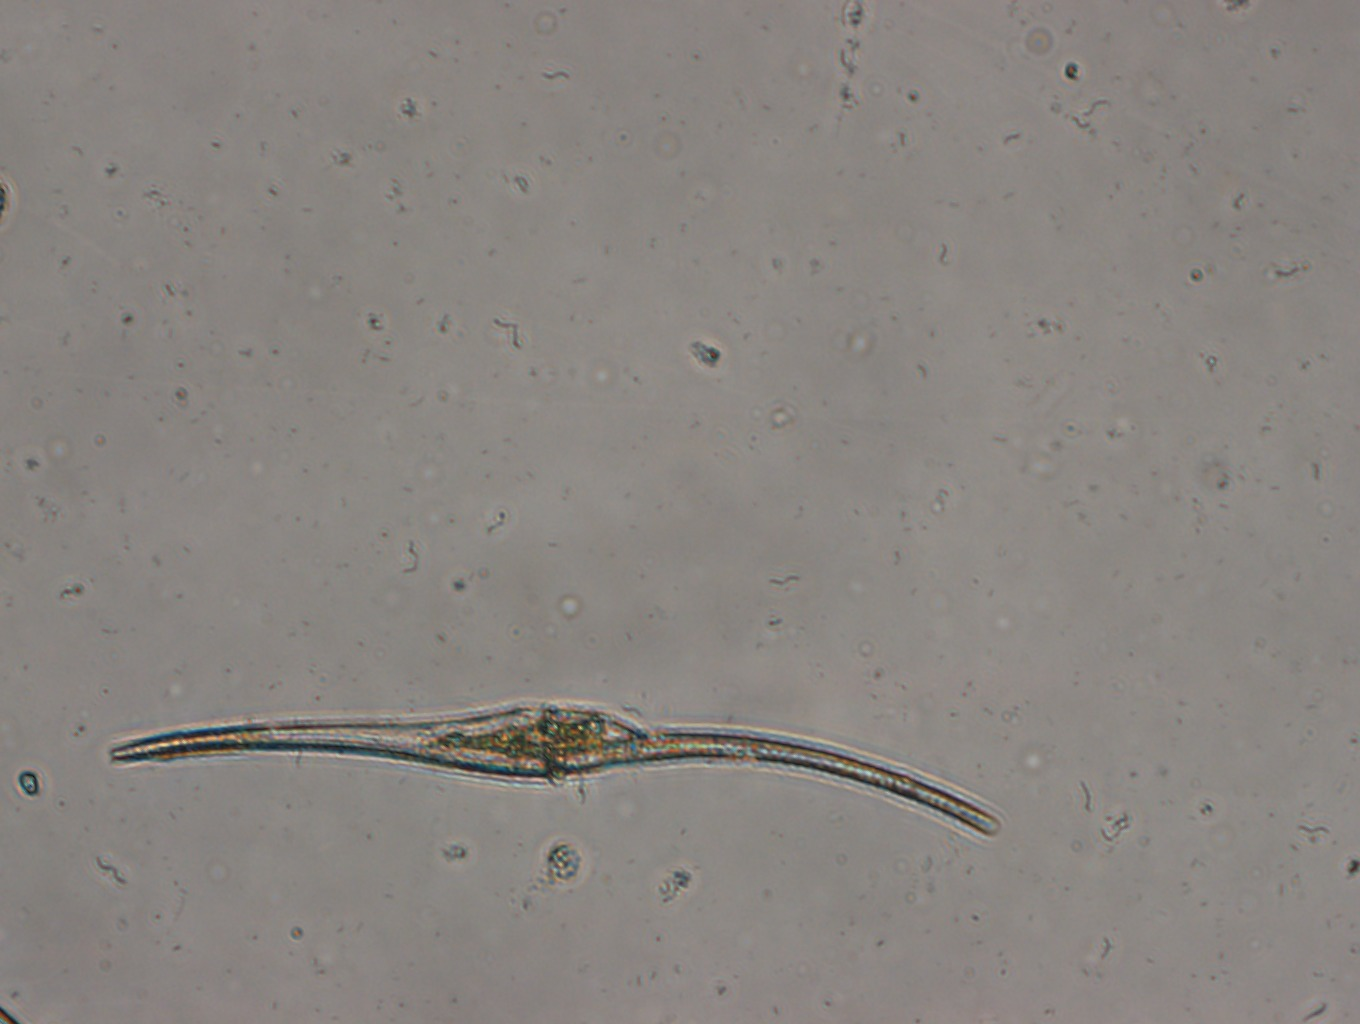ceratium fusus: (101, 689, 1011, 849)
